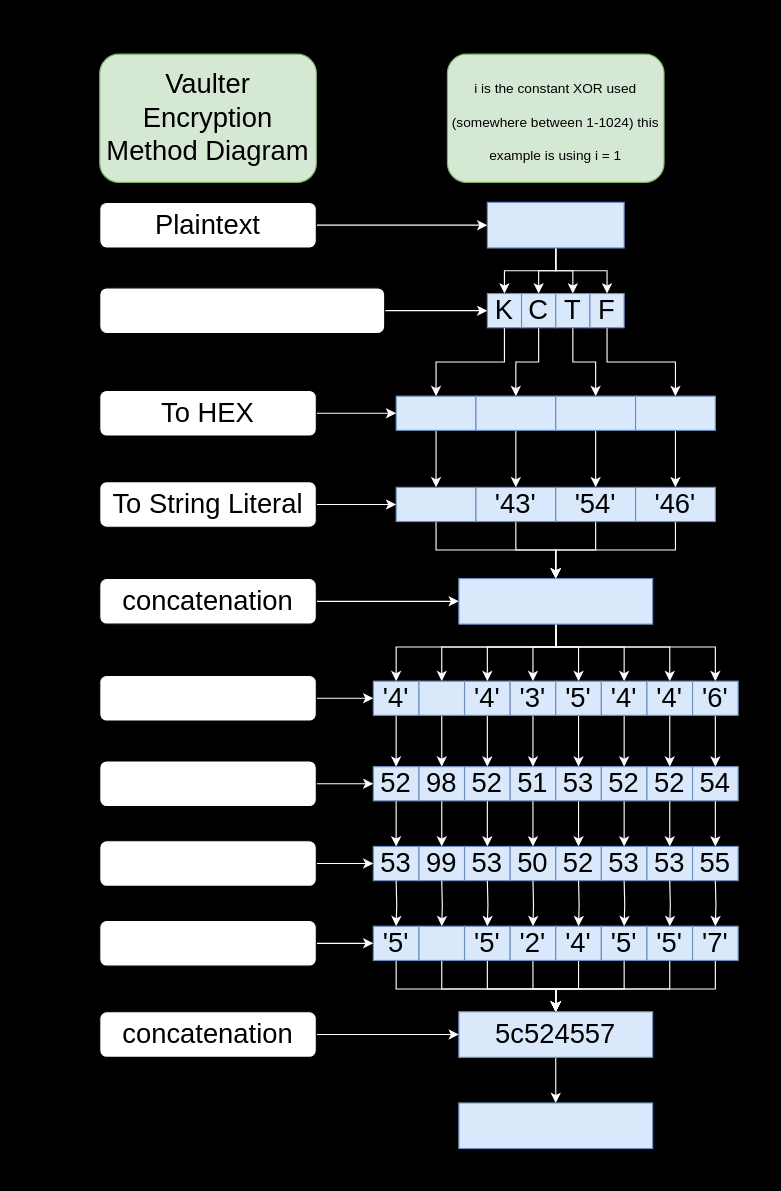
Image size: 781x1191. Some labels were removed from this diagram. Each missing label, with the centre of its shape:
"'4b'" goes at (x=435, y=504).
"'b'" goes at (x=441, y=697).
"'c'" goes at (x=441, y=942).
"0x43" goes at (x=515, y=412).
"0x46" goes at (x=674, y=412).
"0x4b" goes at (x=435, y=412).
"0x54" goes at (x=595, y=412).
"4b435446" goes at (x=555, y=600).
"chr(int)" goes at (x=207, y=942).
"Individual Characters" goes at (x=242, y=310).
"Iterate" goes at (x=207, y=697).
"KCTF" goes at (x=555, y=224).
"ord('char') → int" goes at (x=207, y=783).
"write to file" goes at (x=555, y=1125).
"xor(int ^ i)" goes at (x=207, y=863).
